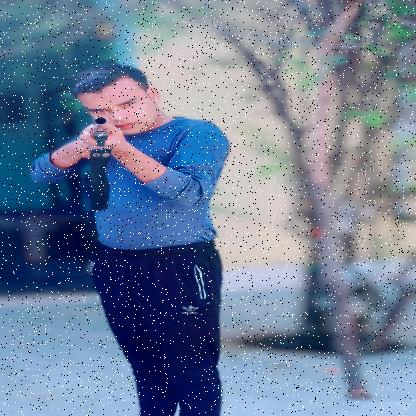rifle: (86, 116, 113, 154)
